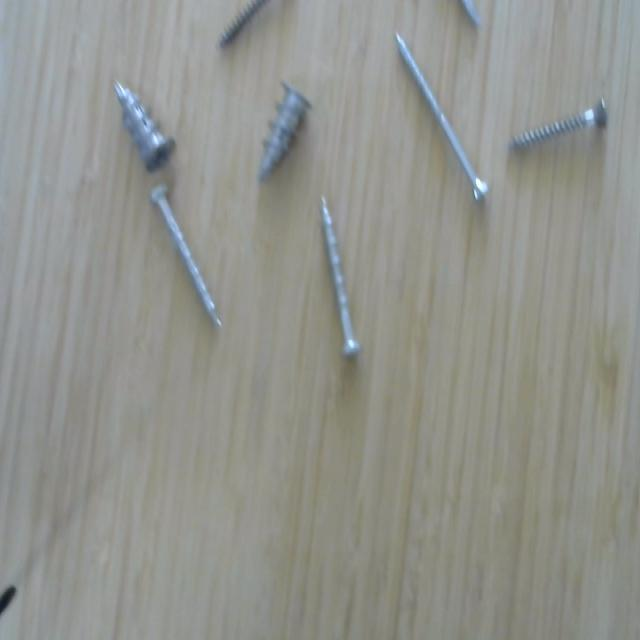Black screw: (506, 92, 613, 162), (214, 0, 268, 53)
Medium screw: (390, 28, 498, 210), (144, 182, 226, 332), (310, 186, 364, 366)
Short screw: (110, 73, 178, 179), (259, 74, 315, 178)
